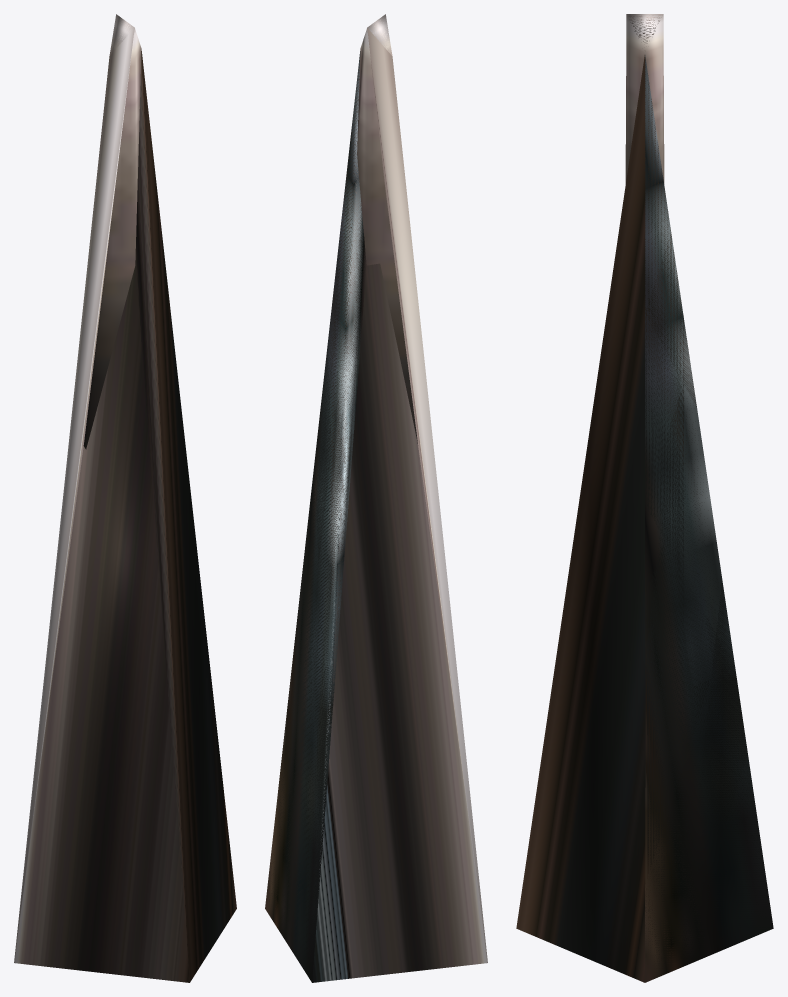
The model's file is stst95.dae.
3 views of the same model, side by side, from view 1: azimuth 30°, elevation 25°; view 2: azimuth 150°, elevation 25°; view 3: azimuth 270°, elevation 25° (orthographic).
Visible parts, largest first — view 1: col11, col21, lever; view 2: col21, col11, lever; view 3: col21, col11, lever.
Boxes of the visible parts, bbox=[...] form: col11: bbox=[14, 266, 189, 982]; col21: bbox=[14, 16, 236, 982]; lever: bbox=[83, 14, 141, 449]; col21: bbox=[268, 17, 487, 982]; col11: bbox=[265, 28, 487, 982]; lever: bbox=[357, 14, 417, 443]; col21: bbox=[516, 14, 772, 982]; col11: bbox=[645, 55, 773, 982]; lever: bbox=[625, 14, 664, 183].
Bounding box in the file's own units: 0.4906 × 0.4906 × 1.92.
Materials: 1 (1 with a texture image).
